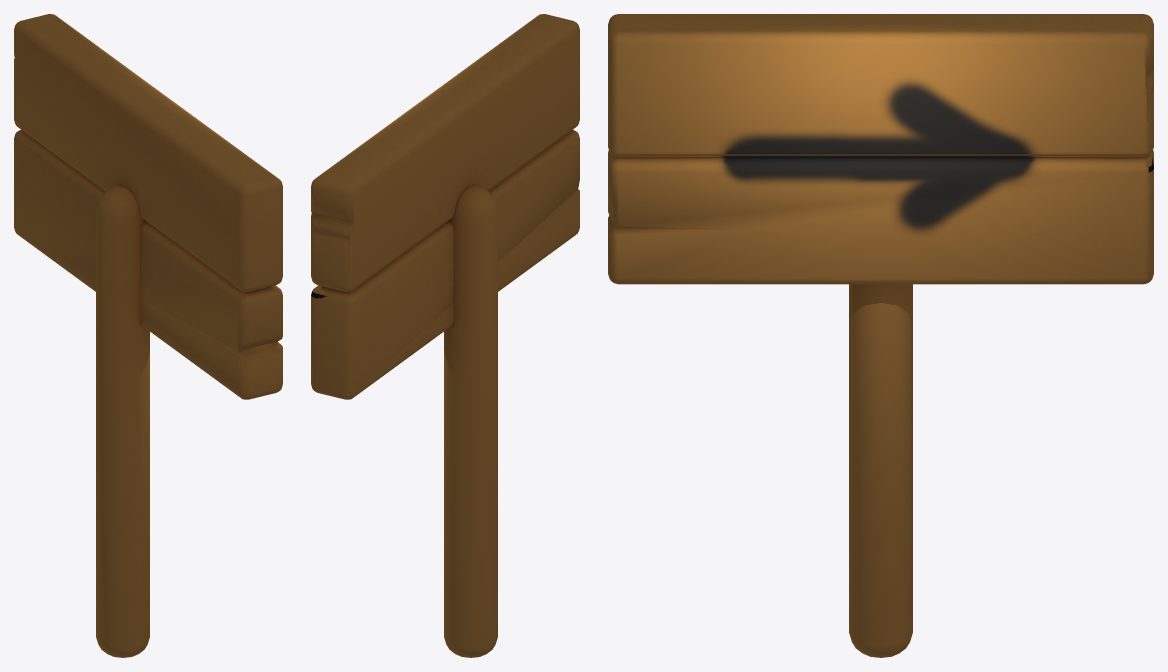
The model's file is board1.glb.
3 renders of one model, left to right at view 1: azimuth 30°, elevation 25°; view 2: azimuth 150°, elevation 25°; view 3: azimuth 270°, elevation 25°, orthographic. The views are drawn at different scales.
Parts seen in each view (by area): view 1: Cube, Cylinder; view 2: Cube, Cylinder; view 3: Cube, Cylinder.
Boxes of the visible parts, <box> form: Cube: <box>14,14,282,399</box>; Cylinder: <box>96,185,149,657</box>; Cube: <box>311,14,579,399</box>; Cylinder: <box>444,185,497,657</box>; Cube: <box>608,14,1153,284</box>; Cylinder: <box>849,284,912,657</box>.
Size of the model in its own units: 1.32 by 9.81 by 7.54.
1 material, 1 textured.
